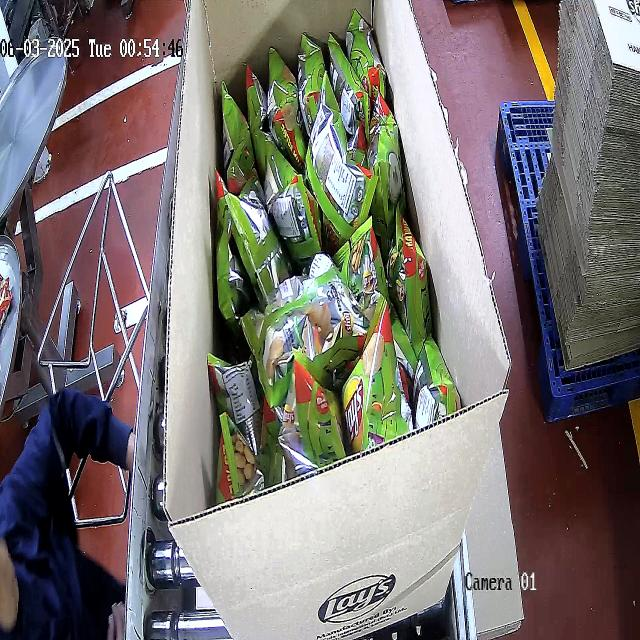YOGURT_HERB: (213, 12, 460, 489)
